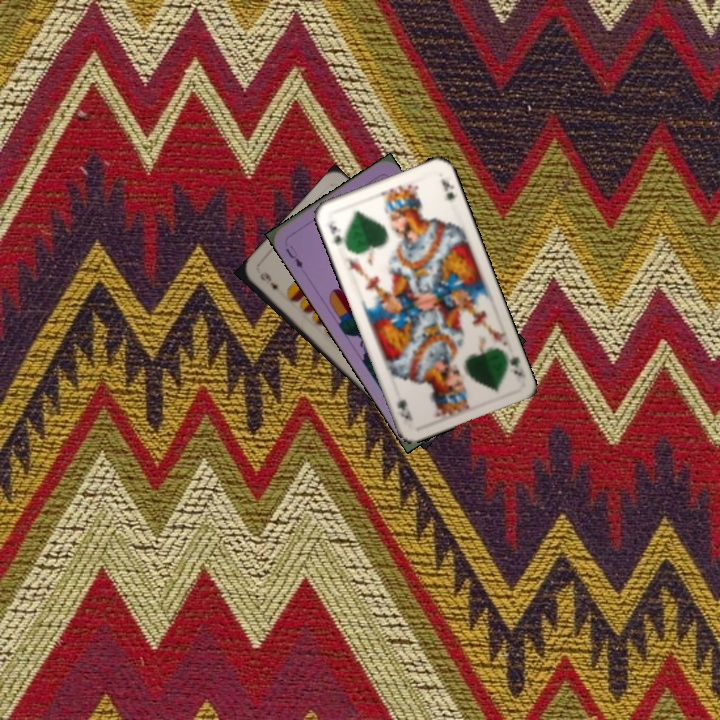E9: (256, 269, 281, 292)
EU: (281, 241, 305, 271)
GK: (325, 216, 350, 250), (499, 348, 525, 379)
